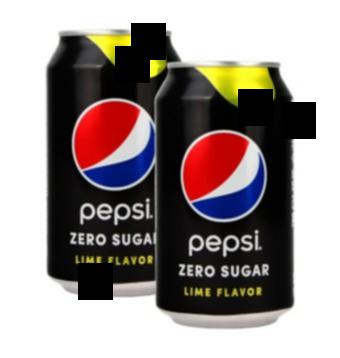pepsi_zero: (158, 61, 293, 329), (39, 24, 154, 296)
